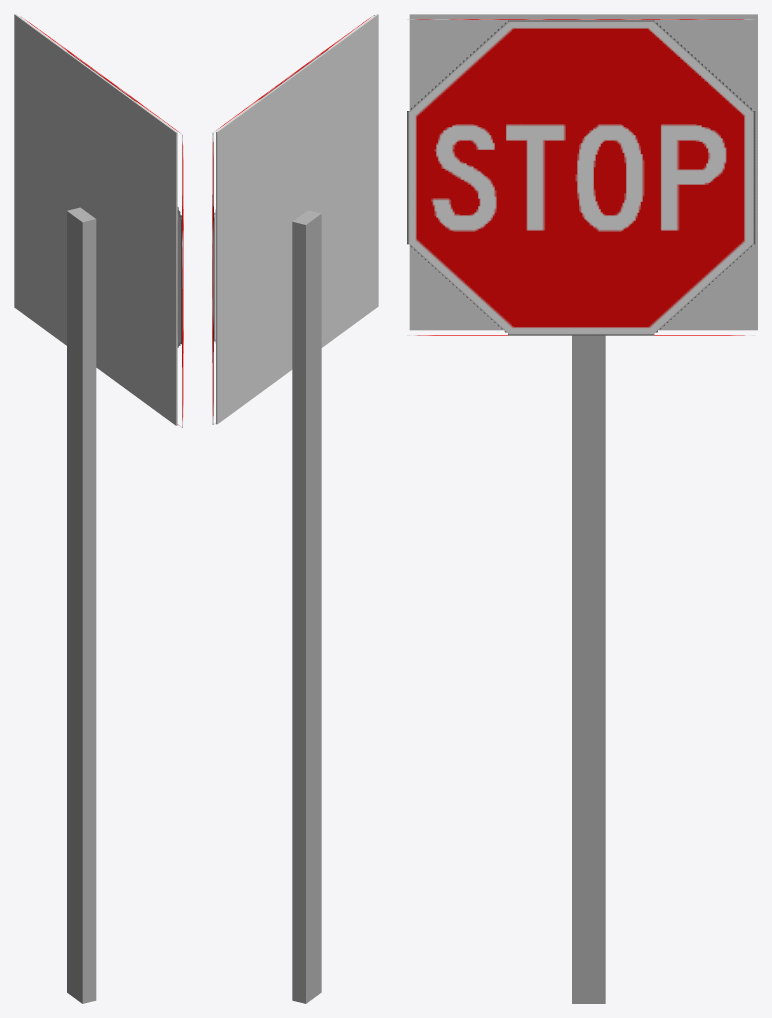
The model's file is stop.dae.
3 views of the same model, side by side, from view 1: azimuth 30°, elevation 25°; view 2: azimuth 150°, elevation 25°; view 3: azimuth 270°, elevation 25° (orthographic). The views are drawn at different scales.
Visible parts, largest first — view 1: Cube_002, Cube_001, Cube; view 2: Cube_002, Cube_001, Cube; view 3: Cube, Cube_001, Cube_002.
Part boxes in pixels (x1=…): Cube_002: x1=14, y1=14, x2=177, y2=425; Cube_001: x1=67, y1=207, x2=96, y2=1003; Cube: x1=20, y1=16, x2=183, y2=427; Cube_002: x1=216, y1=14, x2=378, y2=424; Cube_001: x1=292, y1=210, x2=321, y2=1003; Cube: x1=212, y1=15, x2=374, y2=424; Cube: x1=407, y1=19, x2=755, y2=335; Cube_001: x1=572, y1=335, x2=605, y2=1003; Cube_002: x1=409, y1=14, x2=757, y2=330.
Bounding box in the file's own units: 0.0799 × 0.9209 × 2.88.
